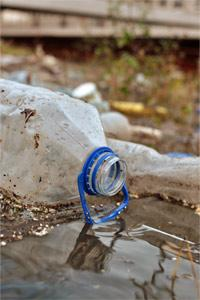bottle: (0, 57, 132, 241)
